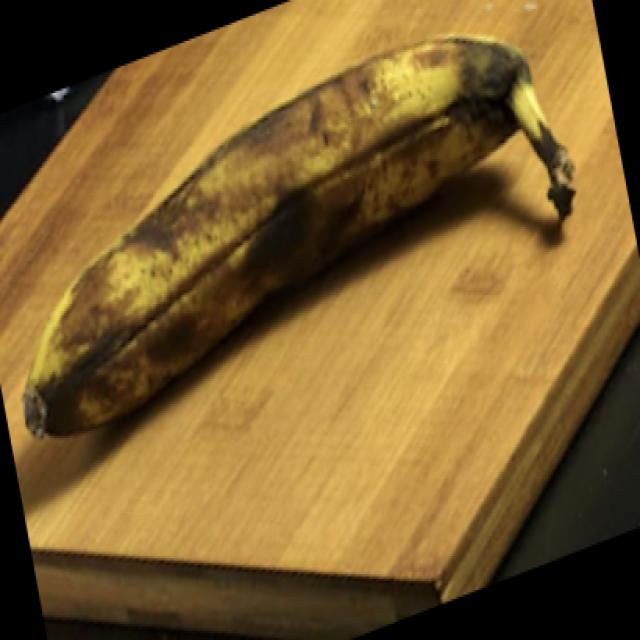Rotten: (23, 28, 575, 440)
